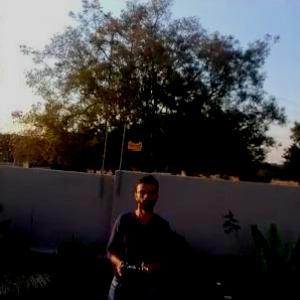follow: (95, 172, 174, 299)
